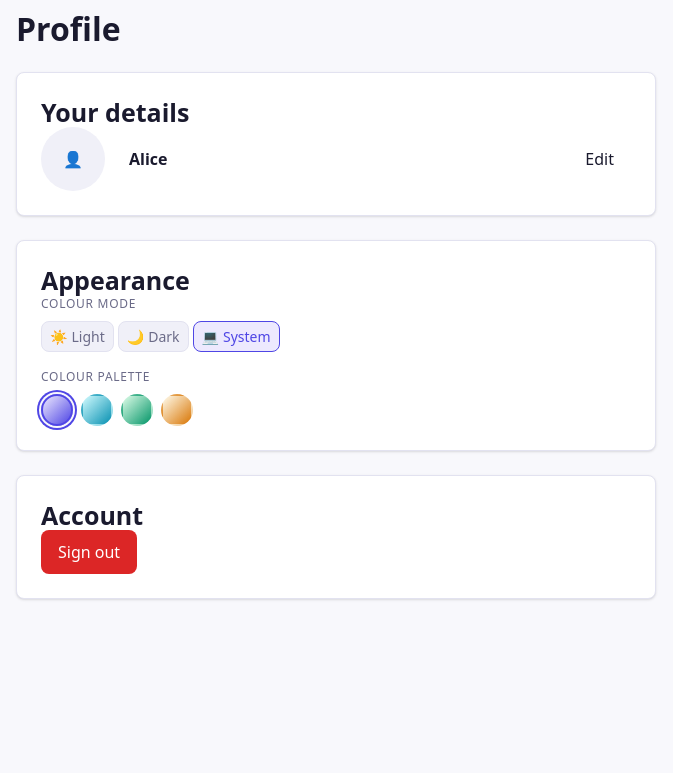
Test: Profile › saves the profile when the form is submitted
Click the button "Edit" at (600, 159), box [568, 137, 631, 181]
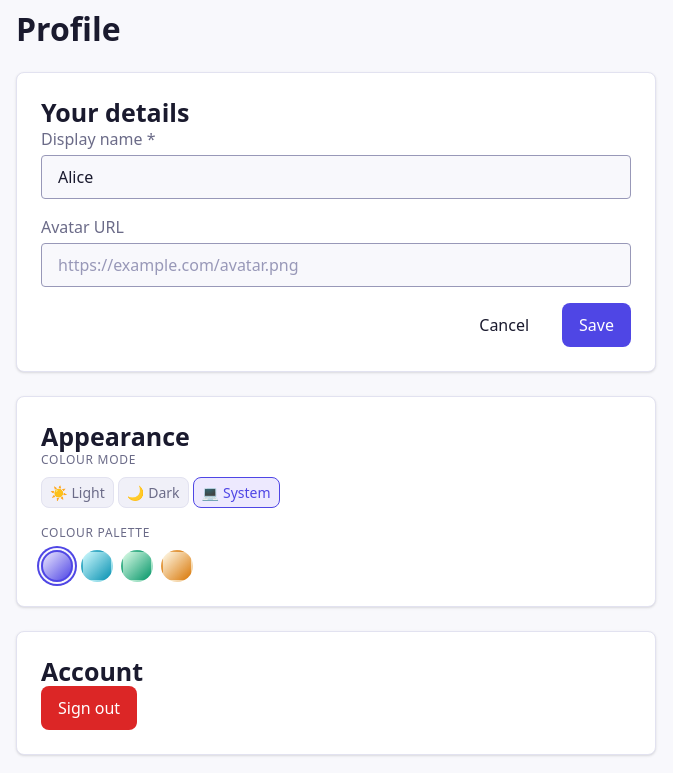
Replace the text in the field labelled "Display name *" with "Alice Updated" at (336, 177), box [41, 155, 631, 199]
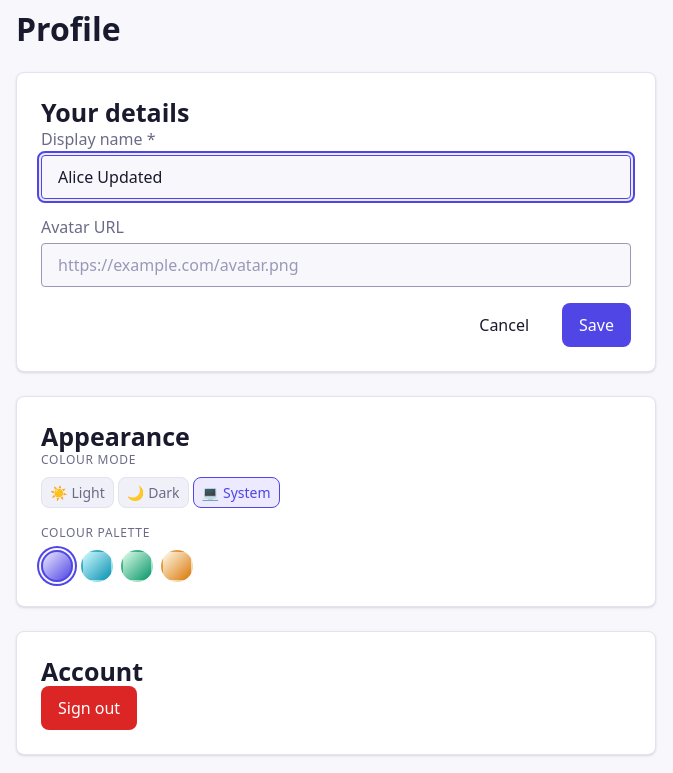
Click the button "Save" at (597, 325), box [562, 303, 631, 347]
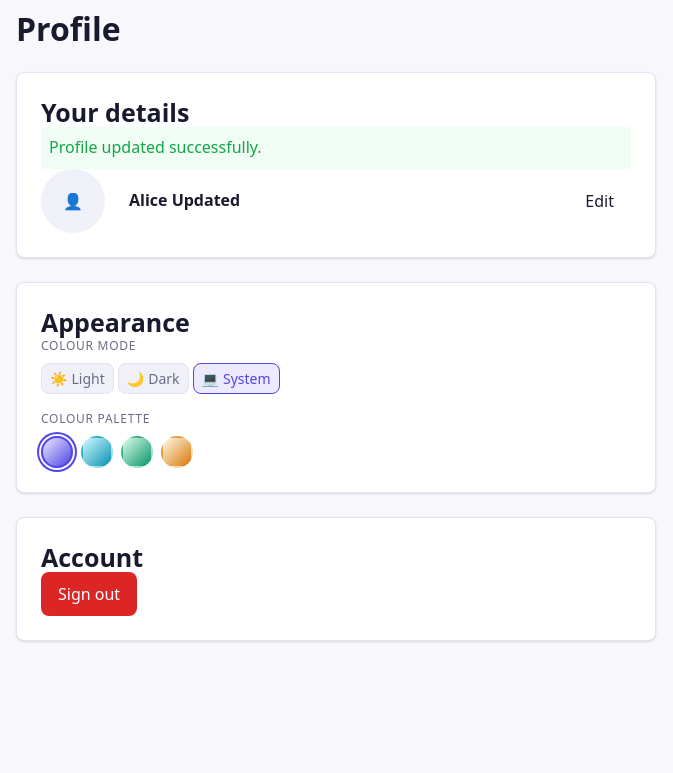
Now the message shows "Profile updated successfully", box [49, 136, 262, 158]
